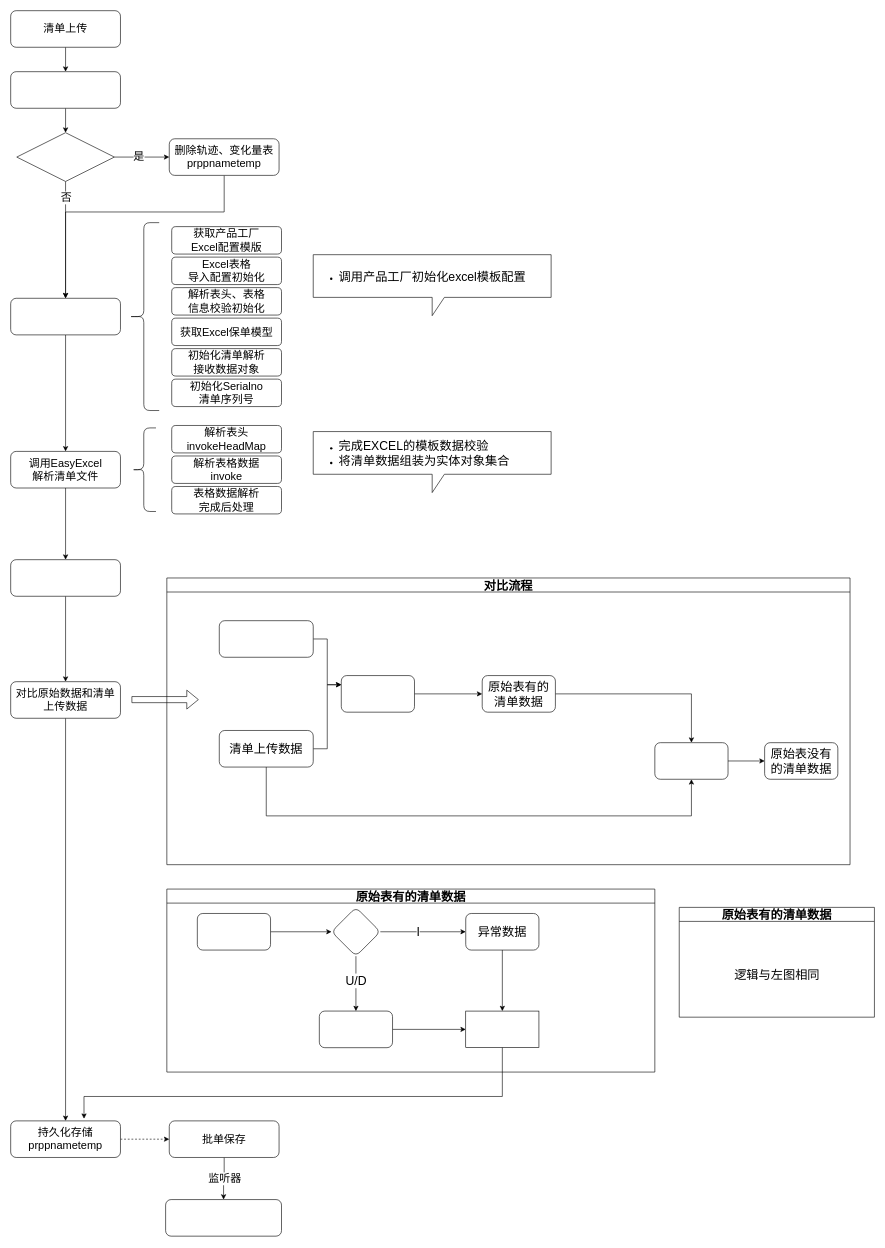
Some shapes in this 885 by 1248 pixel diagram are drawn without their labels. The shapes that lost their labels are listed below. From the top down, each one's box as (x1, y1, x2, y2) in pixels, then its label:
(10, 71, 120, 108): 上传清单文件到 OSS 生成PATH
(16, 132, 114, 181): 是否全量上传
(10, 298, 120, 335): 初始化 （数据准备阶段）
(10, 559, 120, 596): 校验对象集合数据合法性
(219, 620, 313, 657): cname原始表数据
(341, 675, 414, 712): 交集对比
(654, 742, 728, 779): 差集对比
(197, 913, 271, 950): 循化判断
(331, 907, 380, 956): 批改标识
(319, 1010, 393, 1048): 正常数据
(465, 1010, 539, 1048): 回写标识、错误信息
(165, 1199, 282, 1236): prppnametemp变化量+prpcname原始数据 合并转业务表
